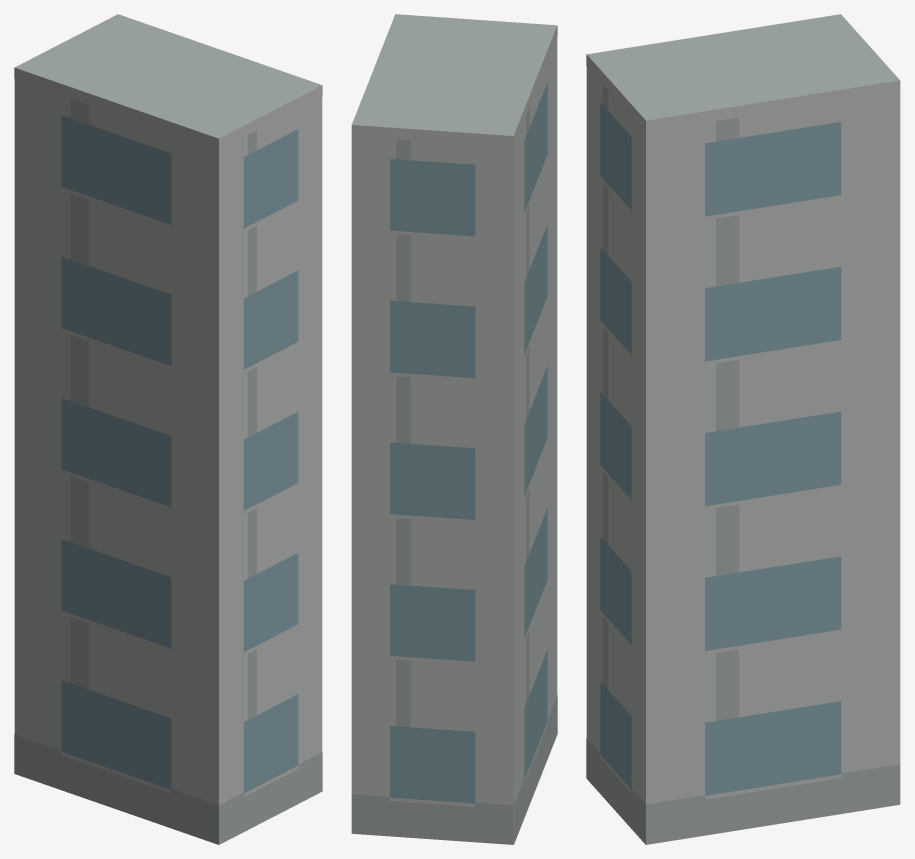
The model's file is survey-upis-32867488.glb.
The picture shows the model from 3 angles, left to right: view 1: azimuth 30°, elevation 25°; view 2: azimuth 150°, elevation 25°; view 3: azimuth 270°, elevation 25°; orthographic projection. The views are drawn at different scales.
Visible parts, largest first — view 1: survey-upis-32867488.tmp; view 2: survey-upis-32867488.tmp; view 3: survey-upis-32867488.tmp.
Boxes of the visible parts, x1,y1,x2,y2 form: survey-upis-32867488.tmp: (14,14,322,844); survey-upis-32867488.tmp: (351,14,557,844); survey-upis-32867488.tmp: (586,14,900,844).
Size of the model in its own units: 4.82 by 15.25 by 5.99.
